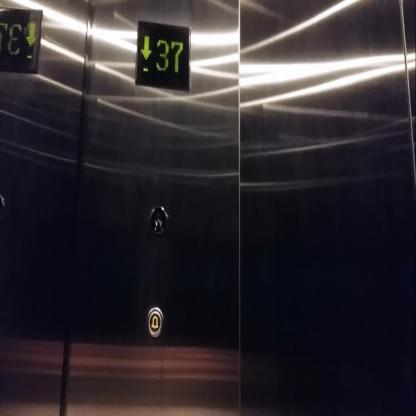alarm: (145, 302, 165, 340)
keyhole: (148, 202, 168, 240)
led: (132, 17, 194, 96)
